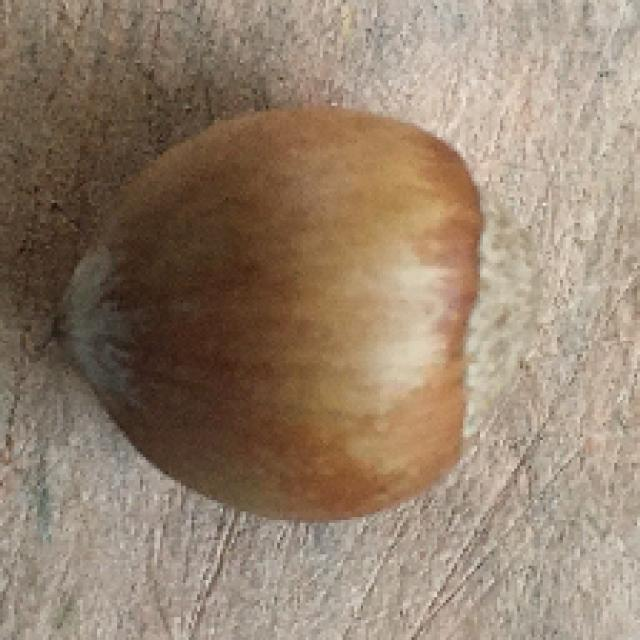qualityHazelnut: (59, 106, 497, 519)
